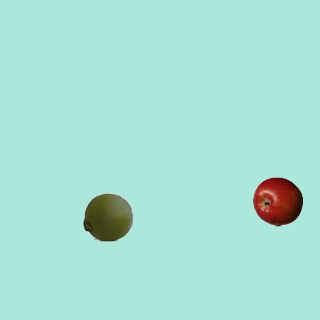Apple Braeburn: (252, 176, 302, 226)
Grape White 4: (82, 191, 132, 241)
